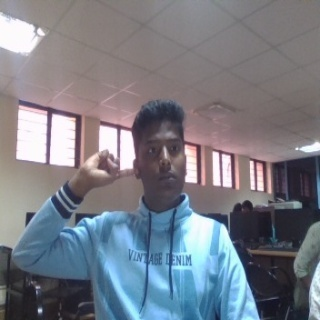Deaf: (75, 147, 137, 191)
Face: (131, 97, 189, 206)
